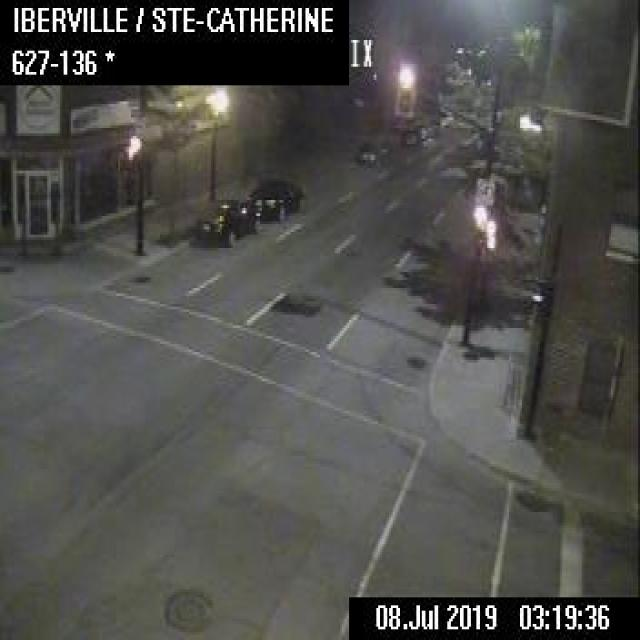vehicle: (191, 196, 259, 244), (248, 176, 302, 219), (355, 134, 390, 164), (400, 126, 420, 145)
